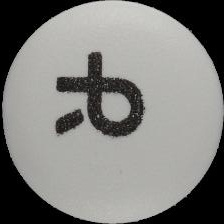67544-840: (0, 0, 224, 224)
